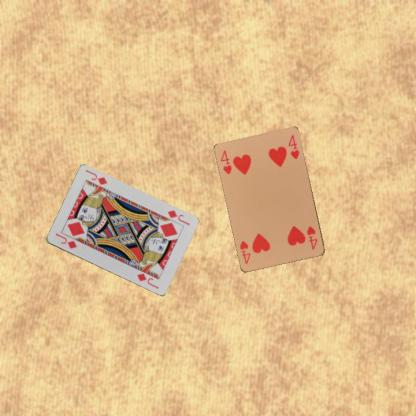4h: (218, 148, 233, 176), (304, 224, 319, 251)
Jd: (53, 231, 78, 250), (164, 208, 190, 226)
